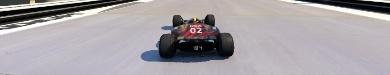Car: (157, 13, 234, 57)
curve: (0, 0, 389, 74)
